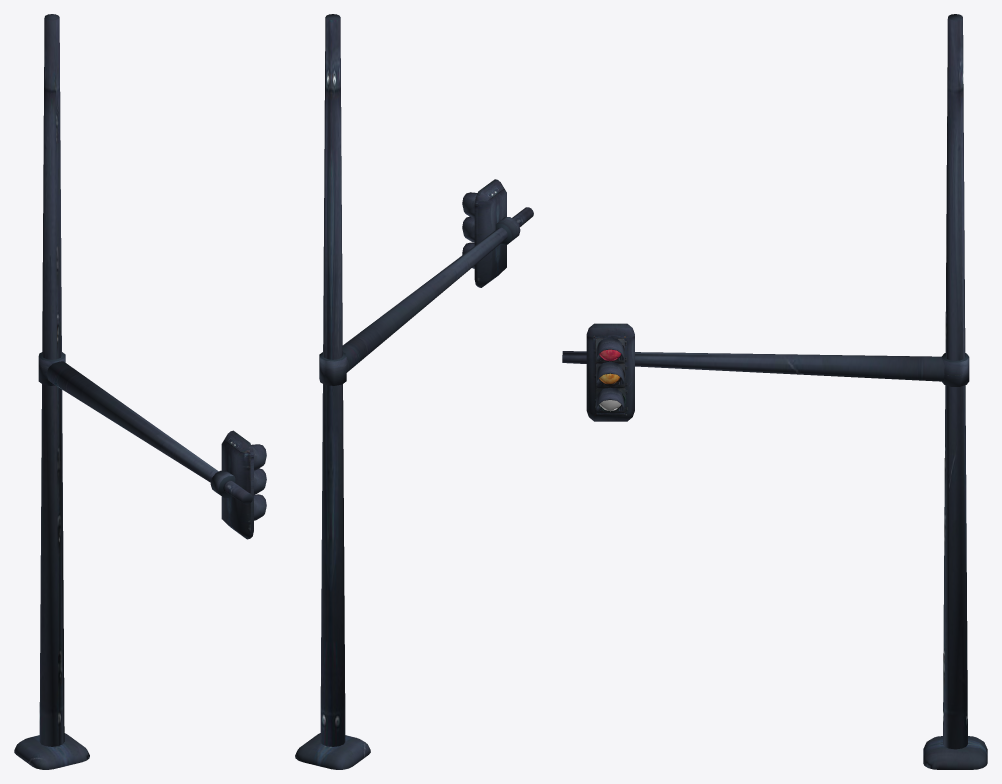
Rendered from TrafficLight1.fbx.
The picture shows the model from 3 angles, left to right: view 1: azimuth 30°, elevation 25°; view 2: azimuth 150°, elevation 25°; view 3: azimuth 270°, elevation 25°; orthographic projection.
Parts seen in each view (by area): view 1: Post0, beam0, frameSgl0, base0, hoods0, cpls0; view 2: Post0, beam0, frameSgl0, base0, cpls0, hoods0; view 3: Post0, beam0, frameSgl0, base0, hoods0, cpls0.
Boxes of the visible parts, x1=… form: Post0: x1=39, y1=14, x2=64, y2=746; beam0: x1=47, y1=361, x2=252, y2=504; frameSgl0: x1=221, y1=430, x2=253, y2=539; base0: x1=14, y1=733, x2=89, y2=769; hoods0: x1=251, y1=444, x2=266, y2=520; cpls0: x1=38, y1=352, x2=235, y2=497; Post0: x1=320, y1=14, x2=345, y2=746; beam0: x1=342, y1=207, x2=533, y2=372; frameSgl0: x1=474, y1=179, x2=506, y2=287; base0: x1=295, y1=733, x2=370, y2=769; cpls0: x1=319, y1=217, x2=520, y2=385; hoods0: x1=462, y1=192, x2=477, y2=268; Post0: x1=943, y1=14, x2=967, y2=749; beam0: x1=562, y1=351, x2=944, y2=381; frameSgl0: x1=586, y1=323, x2=634, y2=421; base0: x1=923, y1=736, x2=987, y2=769; hoods0: x1=596, y1=337, x2=624, y2=410; cpls0: x1=941, y1=353, x2=969, y2=386.
Size of the model in its own units: 1.01 by 10.65 by 5.55.
